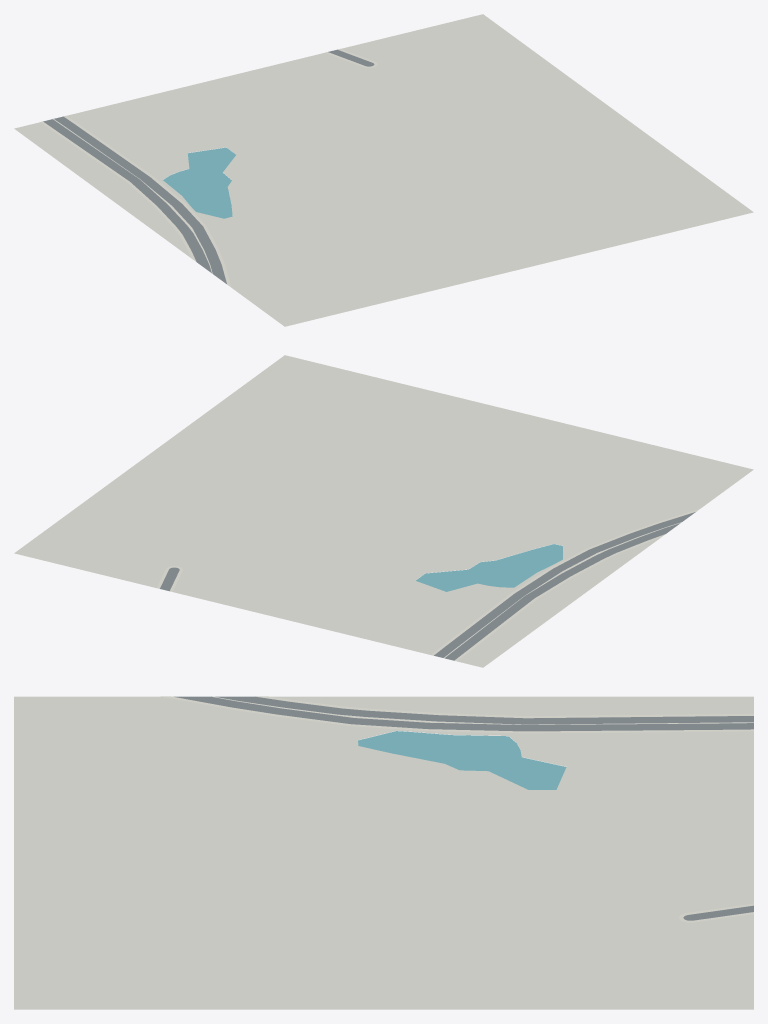
3 renders of one model, top to bottom at view 1: azimuth 30°, elevation 25°; view 2: azimuth 150°, elevation 25°; view 3: azimuth 270°, elevation 25°, orthographic. The views are drawn at different scales.
Visible parts, largest first — view 1: city; view 2: city; view 3: city.
Part boxes in pixels (bbox=[...]): city: bbox=[14, 14, 753, 326]; city: bbox=[14, 355, 753, 667]; city: bbox=[14, 696, 753, 1009].
Bounding box in the file's own units: 500 × 0.4 × 500.
